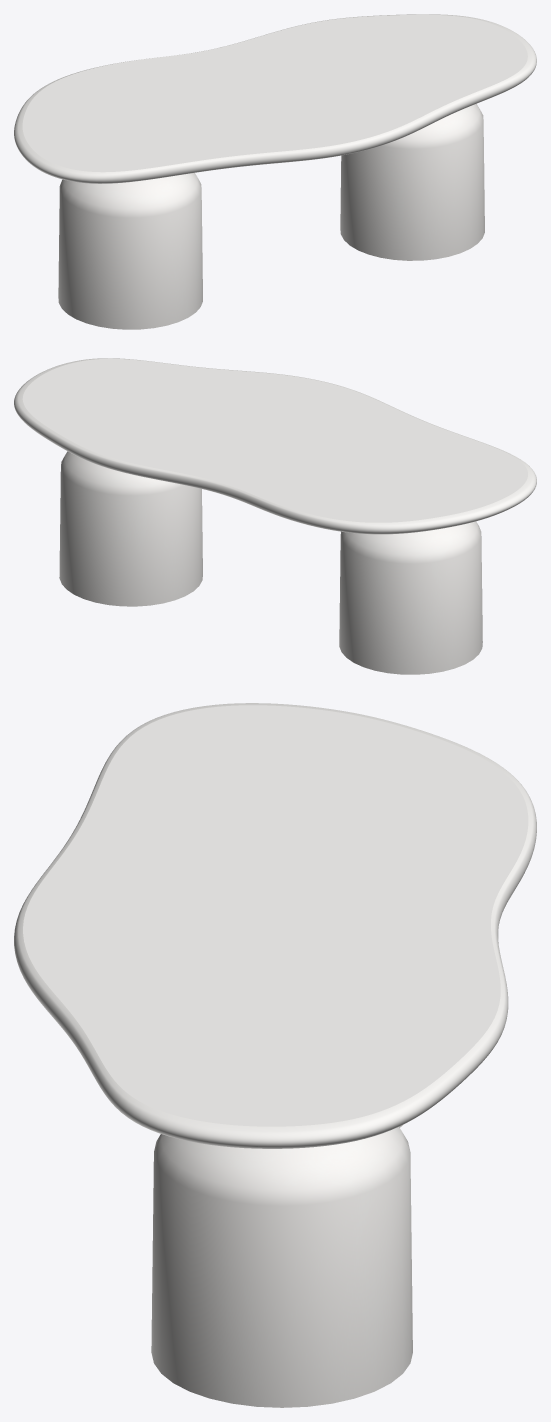
File: purewhite_toplast_round_tornado.glb
The picture shows the model from 3 angles, top to bottom: view 1: azimuth 30°, elevation 25°; view 2: azimuth 150°, elevation 25°; view 3: azimuth 270°, elevation 25°; orthographic projection. The views are drawn at different scales.
Parts seen in each view (by area): view 1: round_toplast, tornado; view 2: round_toplast, tornado; view 3: round_toplast, tornado.
Part boxes in pixels (<box>): round_toplast: <box>14,14,536,183</box>; tornado: <box>58,104,484,329</box>; round_toplast: <box>14,358,536,534</box>; tornado: <box>59,451,482,674</box>; round_toplast: <box>14,703,536,1148</box>; tornado: <box>151,1125,412,1407</box>.
Size of the model in its own units: 7.5 by 2.5 by 3.8.
Materials: 1 (1 with a texture image).
